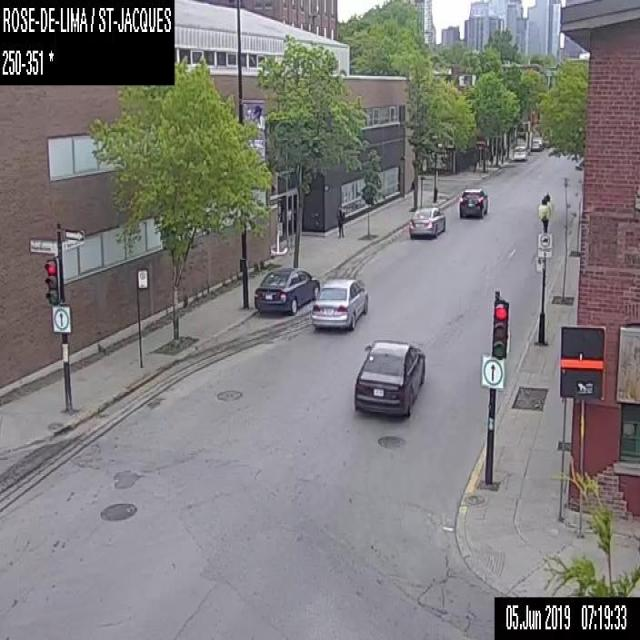pedestrian: (334, 205, 344, 239)
vehicle: (352, 337, 425, 419), (313, 275, 368, 332), (253, 266, 318, 309), (407, 205, 445, 239), (459, 186, 489, 217), (512, 144, 529, 161), (530, 137, 542, 150)
